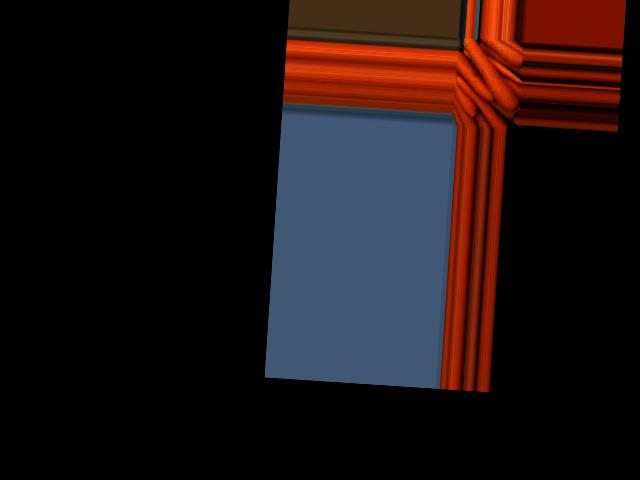carrot: (454, 78, 505, 130)
